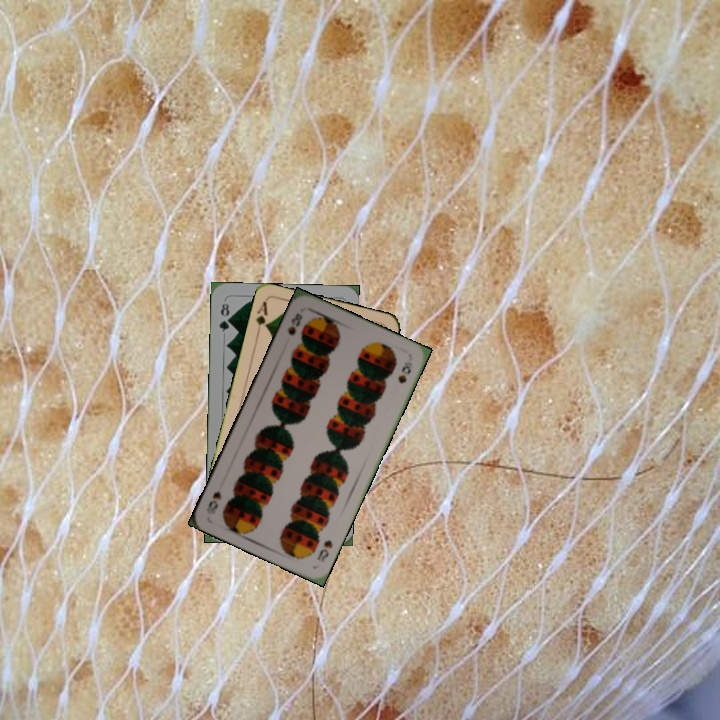G8: (215, 299, 233, 334)
GA: (252, 297, 271, 338)
S8: (283, 309, 305, 338), (313, 536, 335, 565)
